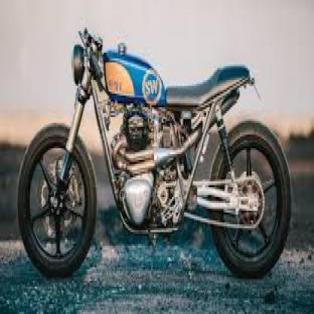Motocicleta: (13, 24, 294, 284)
